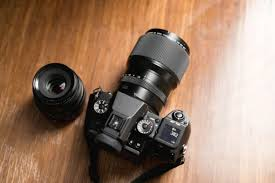camera: (88, 31, 190, 162)
